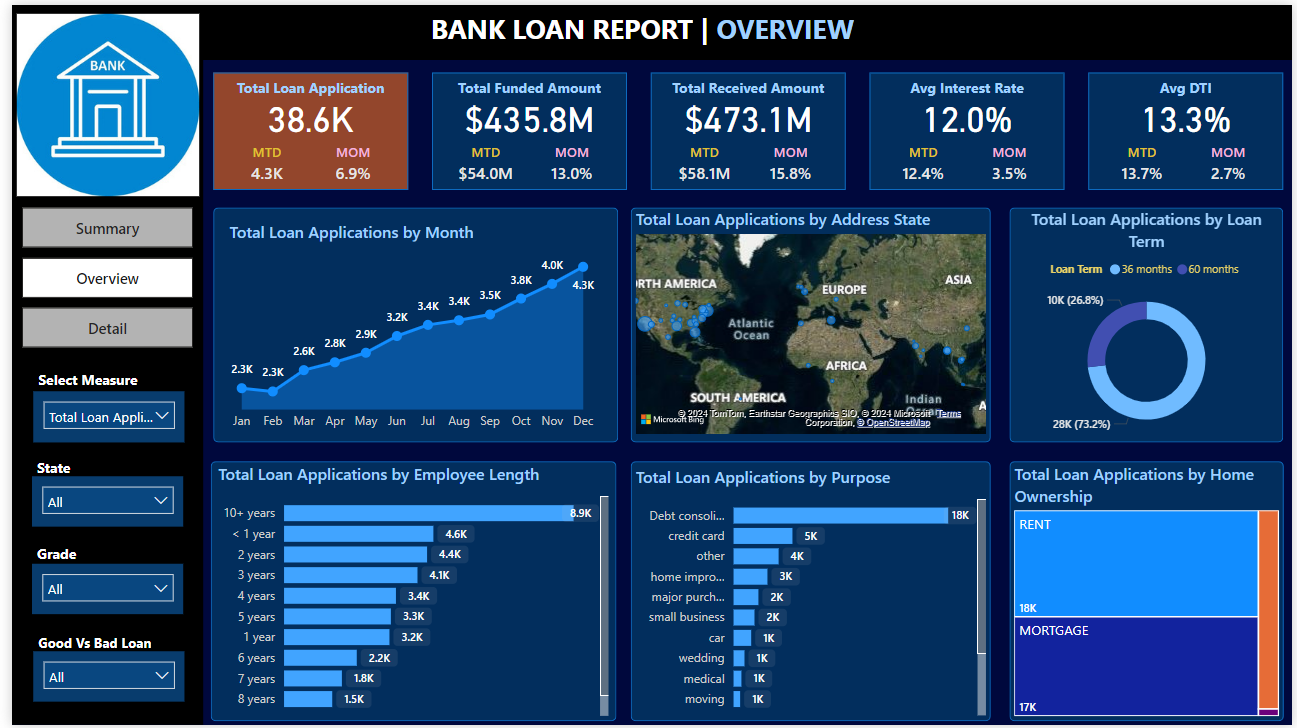

The page's visual inventory and layout, read from the dashboard file:
{"tool":"powerbi","page":{"name":"Overview","canvas":[1280,720],"ordinal":2},"visuals":[{"type":"shape","box":[0,55,191.2,665],"z":0},{"type":"shape","box":[201.2,67.5,195,117.5],"z":0,"group":"g1"},{"type":"shape","box":[420.1,67.5,195,117.5],"z":0,"group":"g2"},{"type":"shape","box":[638.9,67.5,195,117.5],"z":0,"group":"g3"},{"type":"shape","box":[857.8,67.5,195,117.5],"z":0,"group":"g5"},{"type":"shape","box":[1076.6,67.5,195,117.5],"z":0,"group":"g4"},{"type":"card","fields":{"Values":["Dax Measures.Total Loan Applications"]},"box":[201.2,86.3,195,51.2],"z":1000,"group":"g1"},{"type":"card","fields":{"Values":["Dax Measures.Total Funded Amount"]},"box":[420.1,86.3,195,51.2],"z":1000,"group":"g2"},{"type":"card","fields":{"Values":["Dax Measures.Total Received Amount"]},"box":[638.9,86.3,195,51.2],"z":1000,"group":"g3"},{"type":"card","fields":{"Values":["Dax Measures.Average Interest Rate"]},"box":[857.8,86.3,195,51.2],"z":1000,"group":"g5"},{"type":"card","fields":{"Values":["Dax Measures.Average DTI"]},"box":[1076.6,86.3,195,51.2],"z":1000,"group":"g4"},{"type":"shape","box":[201.2,202.5,405,235],"z":1000},{"type":"shape","box":[0,0,1280,55],"z":2000},{"type":"textbox","box":[201.2,67.5,195,36.2],"z":2000,"group":"g1"},{"type":"textbox","box":[420.1,67.5,195,36.2],"z":2000,"group":"g2"},{"type":"textbox","box":[638.9,67.5,195,36.2],"z":2000,"group":"g3"},{"type":"textbox","box":[857.8,67.5,195,36.2],"z":2000,"group":"g5"},{"type":"textbox","box":[1076.6,67.5,195,36.2],"z":2000,"group":"g4"},{"type":"card","title":"MTD","fields":{"Values":["Dax Measures.MTD Total Loan Applications"]},"box":[212.4,137.5,85,47.5],"z":3000,"group":"g1"},{"type":"card","title":"MTD","fields":{"Values":["Dax Measures.MTD Funded Amount"]},"box":[431.3,137.5,85,47.5],"z":3000,"group":"g2"},{"type":"card","title":"MTD","fields":{"Values":["Dax Measures.MTD Received Amount"]},"box":[650.1,137.5,85,47.5],"z":3000,"group":"g3"},{"type":"card","title":"MTD","fields":{"Values":["Dax Measures.MTD Average Rate"]},"box":[869,137.5,85,47.5],"z":3000,"group":"g5"},{"type":"card","title":"MTD","fields":{"Values":["Dax Measures.MTD DTI"]},"box":[1087.8,137.5,85,47.5],"z":3000,"group":"g4"},{"type":"textbox","box":[20,447.3,90,42.9],"z":3000},{"type":"textbox","box":[413.8,0,452.5,53.8],"z":4000},{"type":"card","title":"MOM","fields":{"Values":["Dax Measures.MOM Loan Applications Percentage"]},"box":[298.7,137.5,85,47.5],"z":4000,"group":"g1"},{"type":"card","title":"MOM","fields":{"Values":["Dax Measures.MOM Funded Amount %"]},"box":[517.6,137.5,85,47.5],"z":4000,"group":"g2"},{"type":"card","title":"MOM","fields":{"Values":["Dax Measures.MOM Received Amount %"]},"box":[736.4,137.5,85,47.5],"z":4000,"group":"g3"},{"type":"card","title":"MOM","fields":{"Values":["Dax Measures.MOM Average Interest Rate %"]},"box":[955.3,137.5,85,47.5],"z":4000,"group":"g5"},{"type":"card","title":"MOM","fields":{"Values":["Dax Measures.MOM DTI %"]},"box":[1174.1,137.5,85,47.5],"z":4000,"group":"g4"},{"type":"group","id":"g1","title":"Group 1","box":[201.2,67.5,195,117.5],"z":5000},{"type":"group","id":"g2","title":"Group 1","box":[420.1,67.5,195,117.5],"z":6000},{"type":"group","id":"g3","title":"Group 1","box":[638.9,67.5,195,117.5],"z":7000},{"type":"group","id":"g4","title":"Group 1","box":[1076.6,67.5,195,117.5],"z":8000},{"type":"group","id":"g5","title":"Group 1","box":[857.8,67.5,195,117.5],"z":9000},{"type":"slicer","fields":{"Values":["Bank_loan_data.address_state"]},"box":[20,470.7,151.4,50],"z":10000},{"type":"slicer","fields":{"Values":["Bank_loan_data.grade"]},"box":[20,558.4,151.4,50],"z":11000},{"type":"textbox","box":[20,533.5,57.1,48.6],"z":12000},{"type":"slicer","fields":{"Values":["Bank_loan_data.Good Vs Bad Loan"]},"box":[21.4,646.1,151.4,50],"z":13000},{"type":"textbox","box":[21.4,623.3,151.4,35.7],"z":14000},{"type":"areaChart","fields":{"Y":["Dax Measures.Total Loan Applications"],"Category":["Calendar.Month"]},"box":[212.5,215,376.2,218.8],"z":15000},{"type":"slicer","fields":{"Values":["Select Measure.Select Measure"]},"box":[21.4,385.7,151.4,51.4],"z":16000},{"type":"textbox","box":[21.4,360,130,34.3],"z":17000},{"type":"shape","box":[618.8,202.5,360,235],"z":18000},{"type":"map","fields":{"Size":["Dax Measures.Total Loan Applications"],"Category":["Bank_loan_data.address_state"]},"box":[618.8,202.5,360,231.2],"z":19000},{"type":"shape","box":[997.5,202.5,273.8,235],"z":20000},{"type":"donutChart","fields":{"Y":["Dax Measures.Total Loan Applications"],"Category":["Bank_loan_data.term"]},"box":[997.1,202.9,274.3,235.7],"z":21000},{"type":"shape","box":[198.6,455.7,405.7,260],"z":22000},{"type":"barChart","fields":{"Y":["Dax Measures.Total Loan Applications"],"Category":["Bank_loan_data.emp_length"]},"box":[201.4,457.1,400,258.6],"z":23000},{"type":"shape","box":[618.6,455.7,360,260],"z":24000},{"type":"barChart","fields":{"Y":["Dax Measures.Total Loan Applications"],"Category":["Bank_loan_data.purpose"]},"box":[618.6,460,360,255.7],"z":25000},{"type":"shape","box":[997.1,455.7,274.3,260],"z":26000},{"type":"treemap","fields":{"Values":["Dax Measures.Total Loan Applications"],"Group":["Bank_loan_data.home_ownership"]},"box":[997.1,457.1,274.3,258.6],"z":27000},{"type":"image","box":[0,0,192,200],"z":28000},{"type":"pageNavigator","box":[10,202.9,171.4,141.4],"z":29000}]}

Visuals, with their boxes in screenshot pixels (x1, y1, x2, y2), scaled from the page's 1280x720 canvas onto the 1297x728 screenshot:
shape: [0, 56, 194, 727]
shape: [204, 68, 401, 187]
shape: [426, 68, 623, 187]
shape: [647, 68, 845, 187]
shape: [869, 68, 1067, 187]
shape: [1091, 68, 1288, 187]
card - Dax Measures.Total Loan Applications: [204, 87, 401, 139]
card - Dax Measures.Total Funded Amount: [426, 87, 623, 139]
card - Dax Measures.Total Received Amount: [647, 87, 845, 139]
card - Dax Measures.Average Interest Rate: [869, 87, 1067, 139]
card - Dax Measures.Average DTI: [1091, 87, 1288, 139]
shape: [204, 205, 614, 442]
shape: [0, 0, 1296, 56]
textbox: [204, 68, 401, 105]
textbox: [426, 68, 623, 105]
textbox: [647, 68, 845, 105]
textbox: [869, 68, 1067, 105]
textbox: [1091, 68, 1288, 105]
"MTD" card: [215, 139, 301, 187]
"MTD" card: [437, 139, 523, 187]
"MTD" card: [659, 139, 745, 187]
"MTD" card: [881, 139, 967, 187]
"MTD" card: [1102, 139, 1188, 187]
textbox: [20, 452, 111, 496]
textbox: [419, 0, 878, 54]
"MOM" card: [303, 139, 389, 187]
"MOM" card: [524, 139, 611, 187]
"MOM" card: [746, 139, 832, 187]
"MOM" card: [968, 139, 1054, 187]
"MOM" card: [1190, 139, 1276, 187]
"Group 1" group: [204, 68, 401, 187]
"Group 1" group: [426, 68, 623, 187]
"Group 1" group: [647, 68, 845, 187]
"Group 1" group: [1091, 68, 1288, 187]
"Group 1" group: [869, 68, 1067, 187]
slicer - Bank_loan_data.address_state: [20, 476, 174, 526]
slicer - Bank_loan_data.grade: [20, 565, 174, 615]
textbox: [20, 539, 78, 589]
slicer - Bank_loan_data.Good Vs Bad Loan: [22, 653, 175, 704]
textbox: [22, 630, 175, 666]
areaChart - Dax Measures.Total Loan Applications x Calendar.Month: [215, 217, 597, 439]
slicer - Select Measure.Select Measure: [22, 390, 175, 442]
textbox: [22, 364, 153, 399]
shape: [627, 205, 992, 442]
map - Dax Measures.Total Loan Applications x Bank_loan_data.address_state: [627, 205, 992, 439]
shape: [1011, 205, 1288, 442]
donutChart - Dax Measures.Total Loan Applications x Bank_loan_data.term: [1010, 205, 1288, 443]
shape: [201, 461, 612, 724]
barChart - Dax Measures.Total Loan Applications x Bank_loan_data.emp_length: [204, 462, 609, 724]
shape: [627, 461, 992, 724]
barChart - Dax Measures.Total Loan Applications x Bank_loan_data.purpose: [627, 465, 992, 724]
shape: [1010, 461, 1288, 724]
treemap - Dax Measures.Total Loan Applications x Bank_loan_data.home_ownership: [1010, 462, 1288, 724]
image: [0, 0, 195, 202]
pageNavigator: [10, 205, 184, 348]
